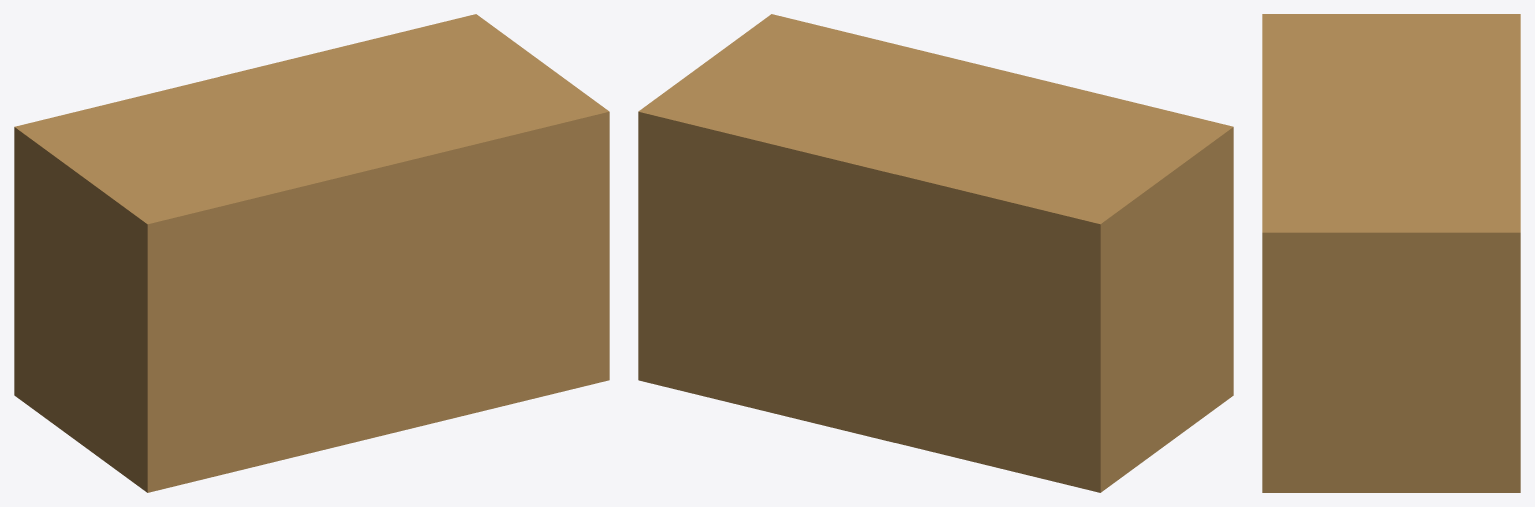
3 views of the same model, side by side, from view 1: azimuth 30°, elevation 25°; view 2: azimuth 150°, elevation 25°; view 3: azimuth 270°, elevation 25° (orthographic). The views are drawn at different scales.
Parts seen in each view (by area): view 1: RUN-087-S01-STUD-01-p5; view 2: RUN-087-S01-STUD-01-p5; view 3: RUN-087-S01-STUD-01-p5.
Part boxes in pixels (left/top/right/bottom): RUN-087-S01-STUD-01-p5: left=14, top=14, right=609, bottom=492; RUN-087-S01-STUD-01-p5: left=638, top=14, right=1233, bottom=492; RUN-087-S01-STUD-01-p5: left=1262, top=14, right=1520, bottom=492.
Bounding box in the file's own units: 0.09 × 0.05 × 0.045.
